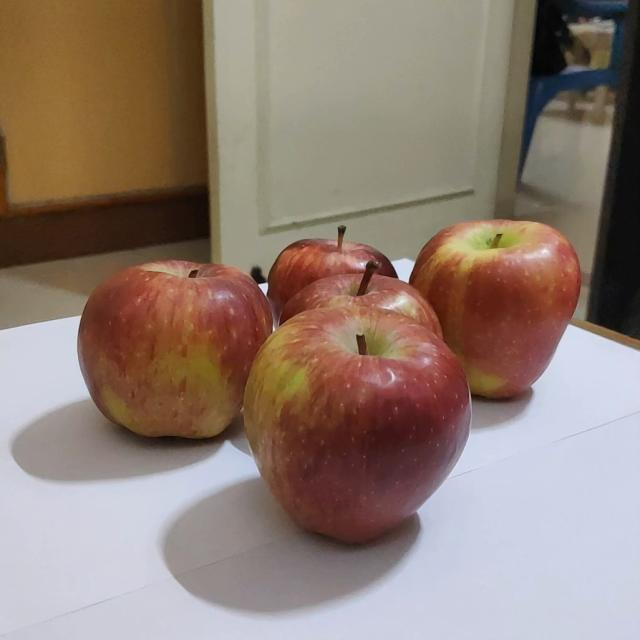apple: (241, 302, 474, 548), (71, 248, 279, 446), (403, 211, 586, 399), (272, 258, 447, 352), (268, 222, 412, 322)
